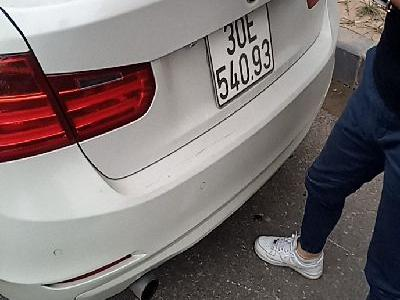car: (205, 3, 276, 110)
